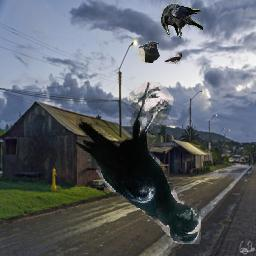Crow: (77, 82, 202, 244), (161, 3, 203, 39), (138, 41, 160, 64), (164, 52, 182, 64)
